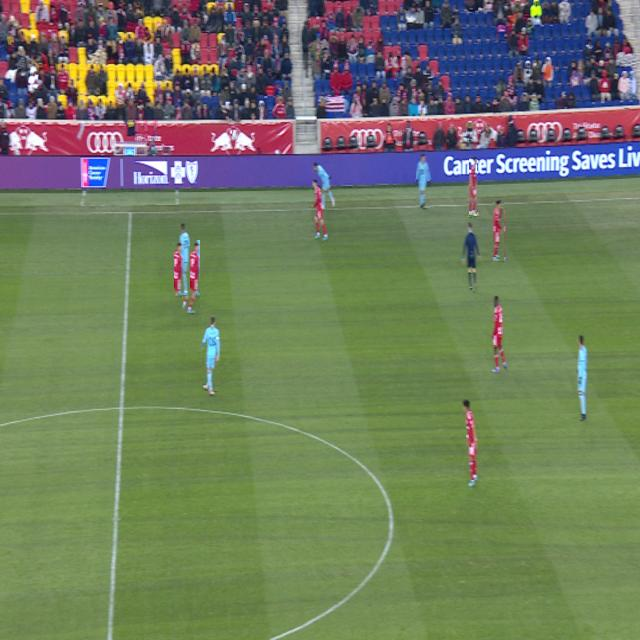football: (233, 130, 237, 138)
player: (202, 316, 220, 391), (182, 241, 200, 311), (490, 293, 505, 370), (464, 399, 477, 486), (175, 223, 190, 296), (311, 181, 328, 241), (577, 335, 588, 420), (416, 154, 430, 208), (494, 201, 504, 261), (469, 158, 477, 217)
referee: (463, 223, 481, 290)
